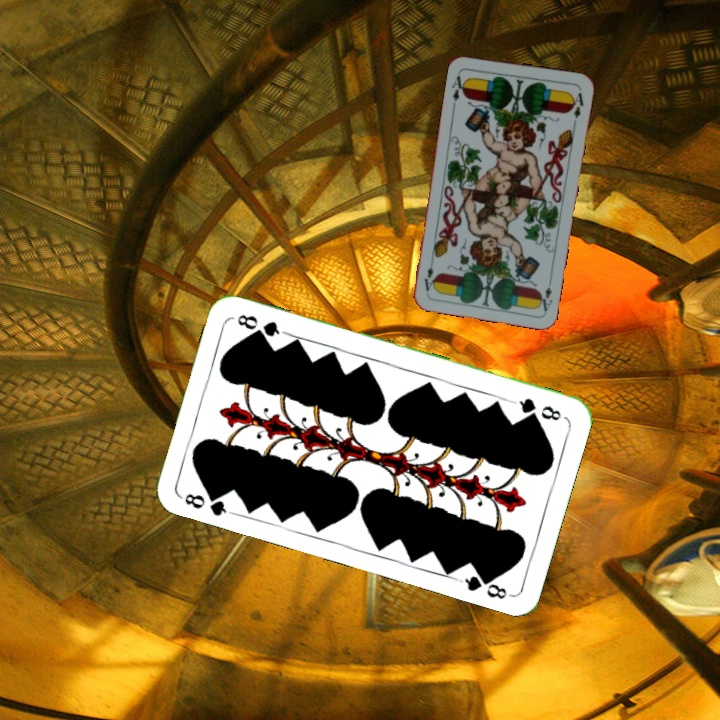EA: (448, 68, 469, 108), (534, 274, 555, 314)
G8: (177, 486, 235, 519), (509, 394, 564, 423)
